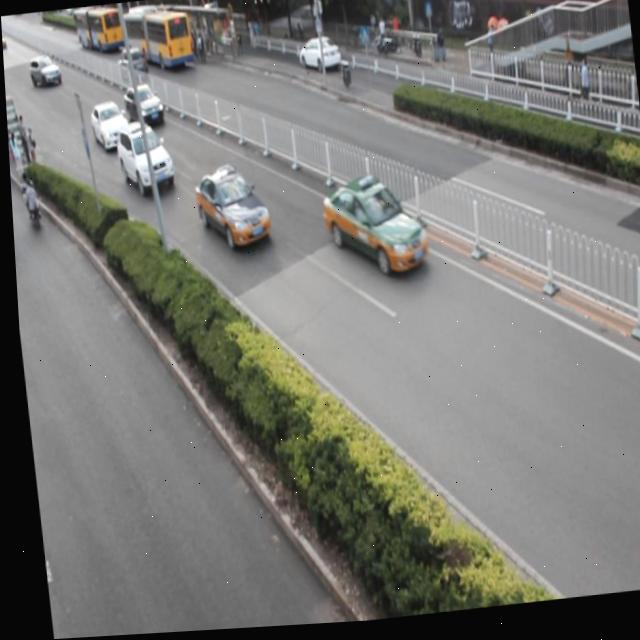car: (315, 171, 427, 290), (189, 164, 270, 258), (113, 122, 175, 200), (87, 100, 129, 158), (122, 84, 163, 133), (296, 37, 340, 77), (115, 46, 149, 90)
van: (121, 4, 193, 76)
